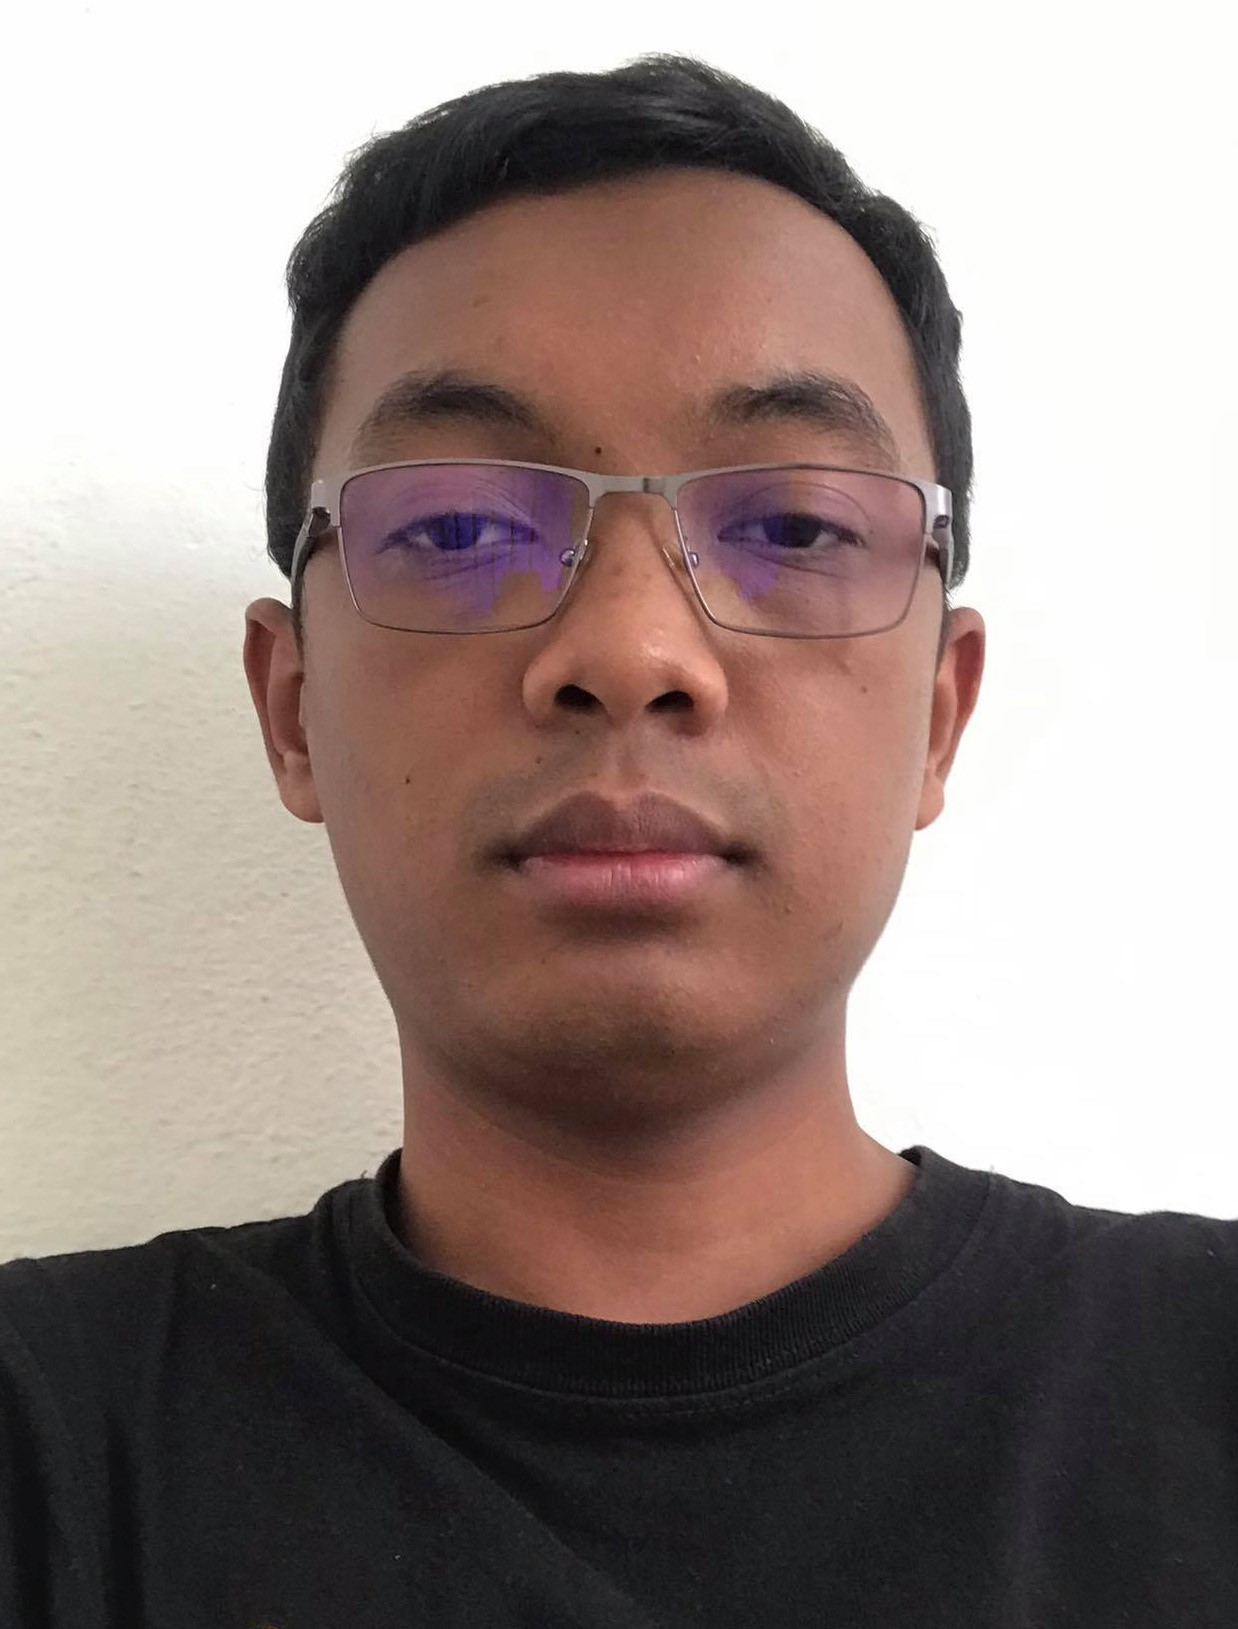BOY: (210, 45, 1012, 1115)
